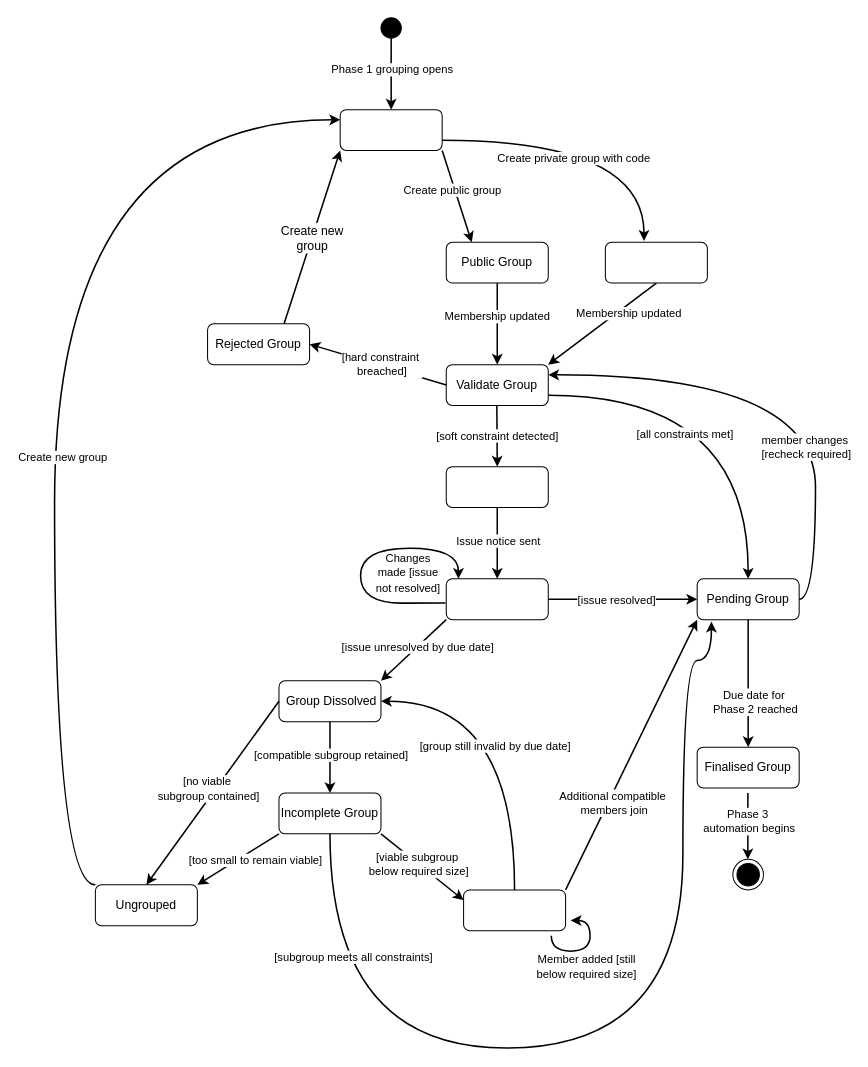
This 868x1067 diagram has some shape labels left out. Each missing label, with the box of its shape:
Group Created: (339, 109, 442, 150)
Group Review Required: (445, 578, 548, 620)
Private Group: (604, 241, 707, 283)
Provisional Group: (445, 466, 548, 507)
Recruiting: (463, 889, 566, 931)
